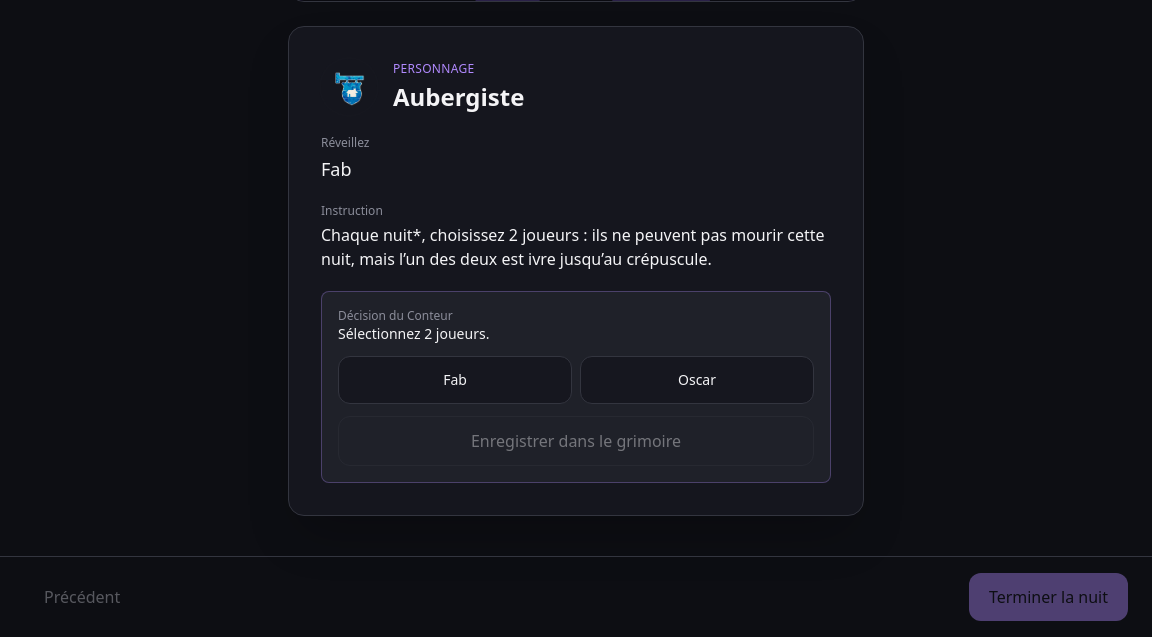
NightAssistantScreen — Over the River : Aubergiste › ne présente jamais l’Aubergiste comme le Marin dans le choix du joueur ivre
(page scrolled)
Click the button "Fab" at (455, 380), box [338,356,572,404]
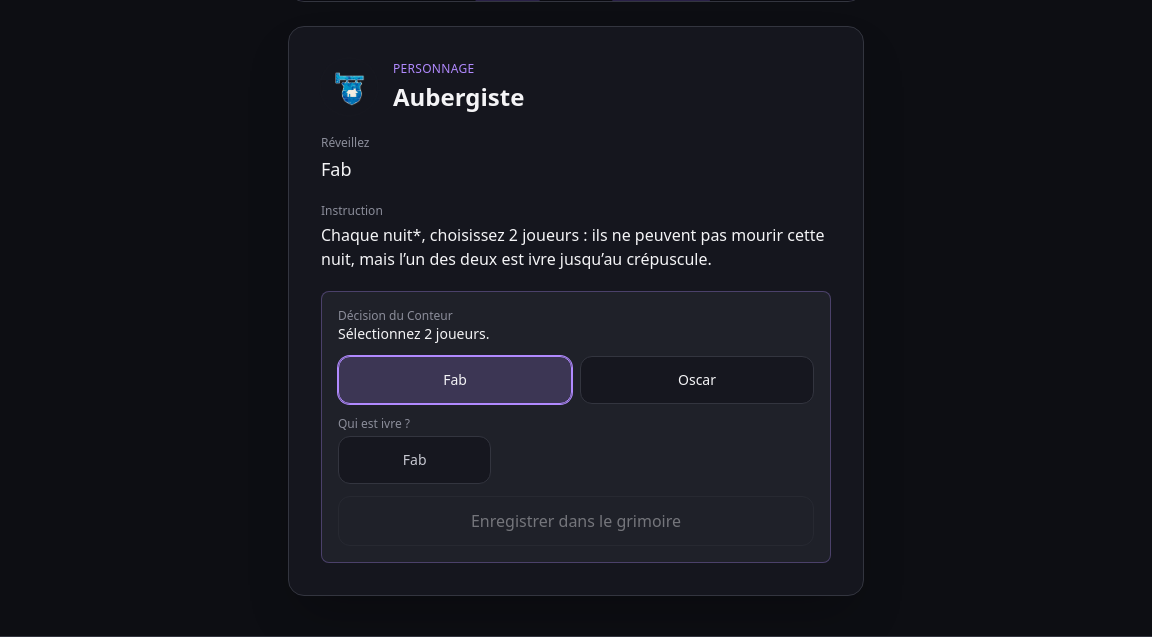
Click the button "Oscar" at (697, 380), box [580,356,814,404]
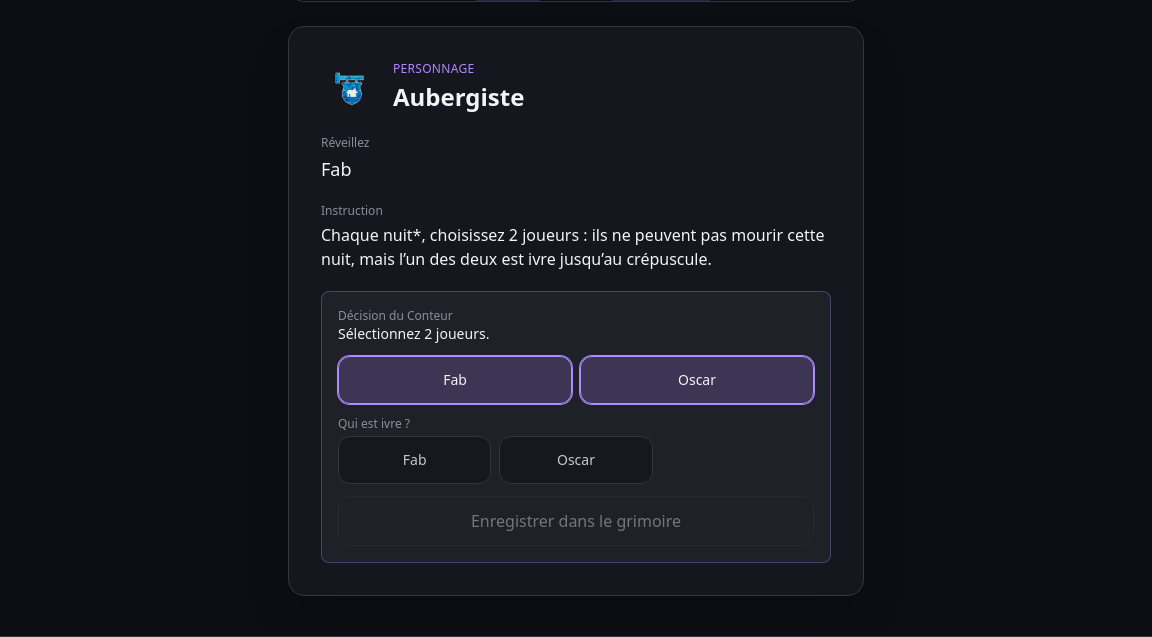
Expected: the text "Qui est ivre ?" is shown, [338,415,410,432]
Expected: the number of buttons "Fab" is 2, [338,356,572,404]; [338,436,491,484]
